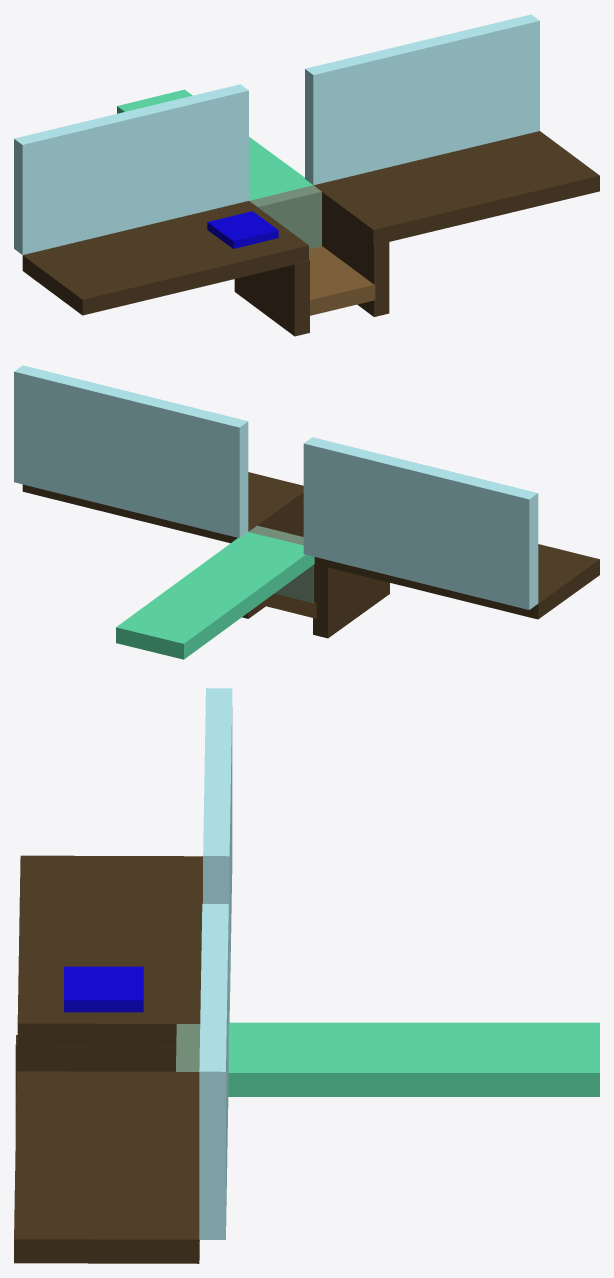
Rendered from tempFiled3.fbx.
3 views of the same model, one above another, from view 1: azimuth 30°, elevation 25°; view 2: azimuth 150°, elevation 25°; view 3: azimuth 270°, elevation 25° (orthographic). The views are drawn at different scales.
Parts seen in each view (by area): view 1: Cube.003, Cube, Cube.002, Cube.001, Cube.007, Cube.008, Cube.004, 立方体.001, Cube.006, 立方体; view 2: Cube, Cube.003, 立方体.001, Cube.001, Cube.002, Cube.007, Cube.006, Cube.004, Cube.008; view 3: Cube.002, Cube.001, 立方体.001, Cube.003, Cube, Cube.007, 立方体, Cube.006.
Part boxes in pixels (x1,y1,x2,y2): Cube.003: [305, 14, 539, 185]; Cube: [14, 84, 248, 254]; Cube.002: [314, 131, 599, 245]; Cube.001: [22, 201, 308, 315]; Cube.007: [234, 260, 309, 336]; Cube.008: [322, 207, 389, 316]; Cube.004: [309, 246, 375, 315]; 立方体.001: [117, 89, 312, 200]; Cube.006: [250, 185, 321, 249]; 立方体: [207, 211, 278, 248]; Cube: [303, 437, 538, 609]; Cube.003: [14, 365, 248, 537]; 立方体.001: [116, 532, 314, 659]; Cube.001: [314, 544, 599, 619]; Cube.002: [22, 472, 303, 543]; Cube.007: [313, 564, 389, 638]; Cube.006: [248, 525, 313, 602]; Cube.004: [259, 593, 316, 618]; Cube.008: [242, 508, 303, 618]; Cube.002: [14, 1071, 199, 1263]; Cube.001: [17, 855, 202, 1046]; 立方体.001: [228, 1022, 599, 1096]; Cube.003: [199, 903, 228, 1239]; Cube: [203, 688, 232, 1024]; Cube.007: [15, 1035, 176, 1103]; 立方体: [64, 966, 143, 1012]; Cube.006: [176, 1024, 200, 1071].
Bounding box in the file's own units: 6864 × 2506 × 4424.
